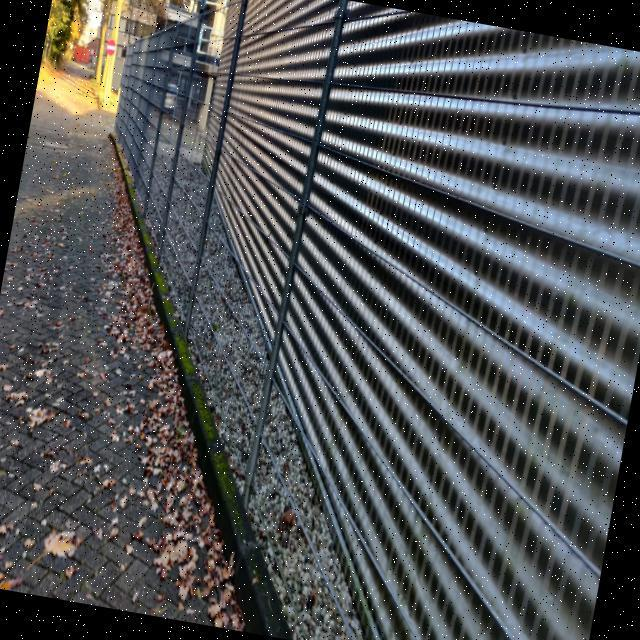fence line: (140, 0, 639, 639), (70, 26, 319, 402)
